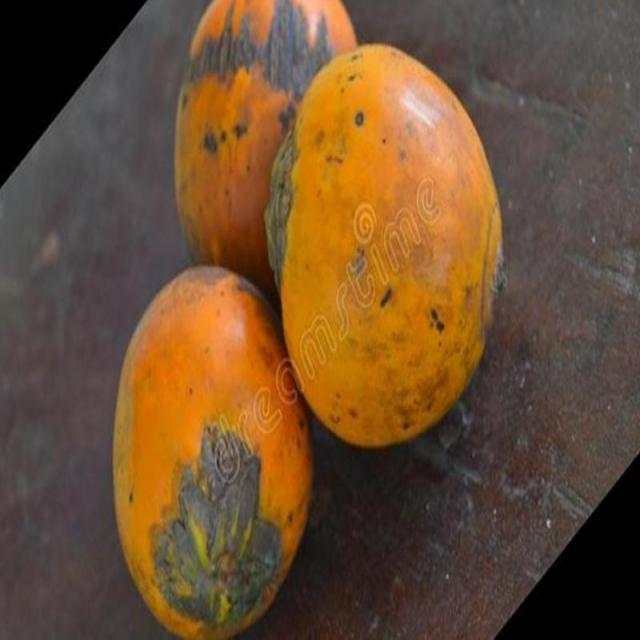good: (274, 45, 503, 451), (110, 266, 314, 639), (173, 0, 356, 309)
